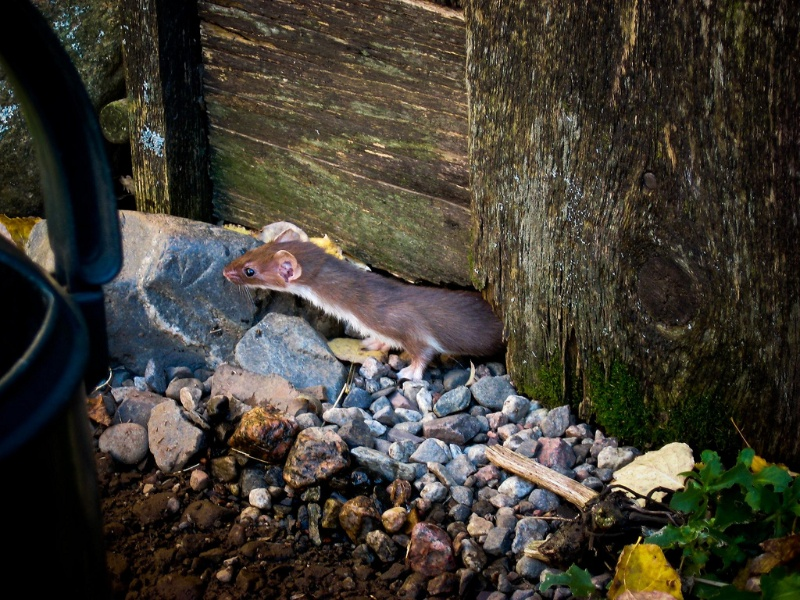minkish: (222, 238, 519, 386)
